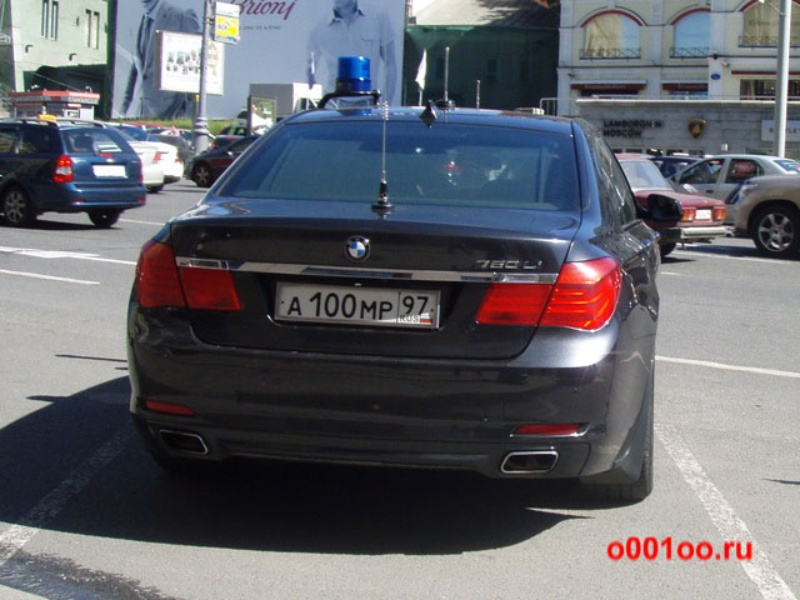car: (126, 104, 661, 503), (1, 118, 148, 228), (615, 153, 726, 258), (664, 154, 800, 204), (734, 173, 800, 251), (185, 135, 260, 190)
plate: (281, 284, 435, 327)
